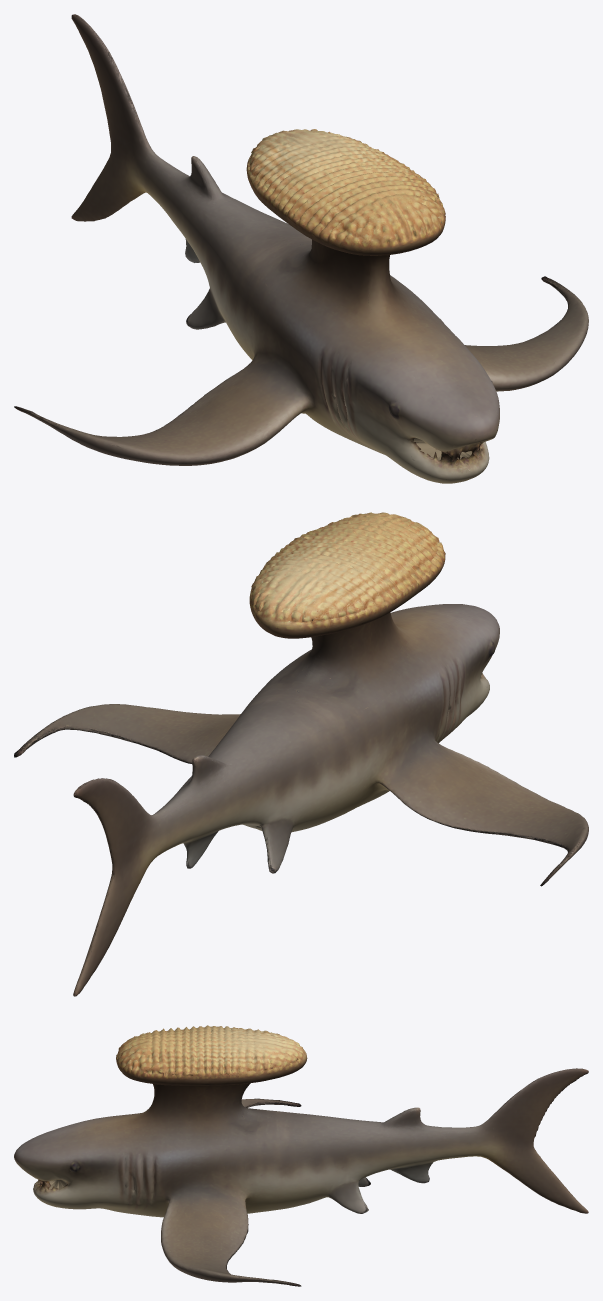
3 views of the same model, one above another, from view 1: azimuth 30°, elevation 25°; view 2: azimuth 150°, elevation 25°; view 3: azimuth 270°, elevation 25° (orthographic). The views are drawn at different scales.
Visible parts, largest first — view 1: world; view 2: world; view 3: world.
Part boxes in pixels (<box>): world: <box>14,14,588,483</box>; world: <box>14,512,588,996</box>; world: <box>14,1025,588,1286</box>.
Size of the model in its own units: 0.6359 by 0.2892 by 0.85.
Materials: 1 (1 with a texture image).
